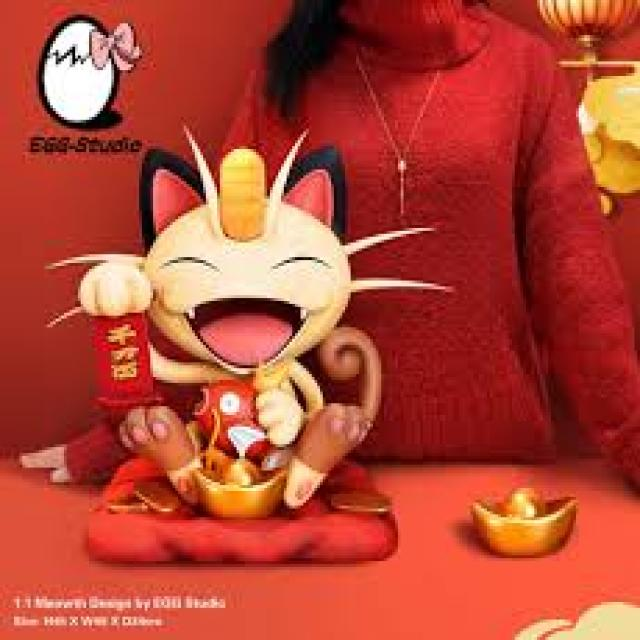Meowth: (147, 145, 350, 495)
